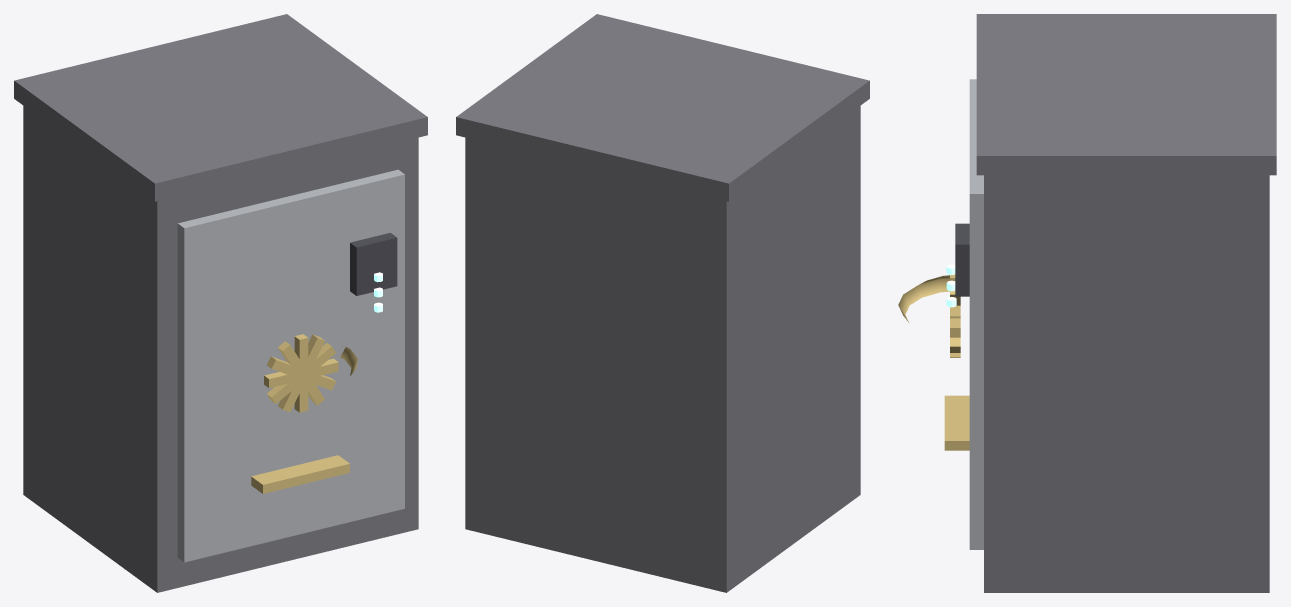
Rendered from casino-floor-and-back-rooms-safe-fdab706d__27065.glb.
3 renders of one model, left to right at view 1: azimuth 30°, elevation 25°; view 2: azimuth 150°, elevation 25°; view 3: azimuth 270°, elevation 25°, orthographic. The views are drawn at different scales.
Parts seen in each view (by area): view 1: safe; view 2: safe; view 3: safe.
Part boxes in pixels (x1=…): safe: x1=14, y1=14, x2=427, y2=592; safe: x1=456, y1=14, x2=869, y2=592; safe: x1=898, y1=14, x2=1276, y2=592.
Bounding box in the file's own units: 0.9399 × 1.36 × 1.06.
